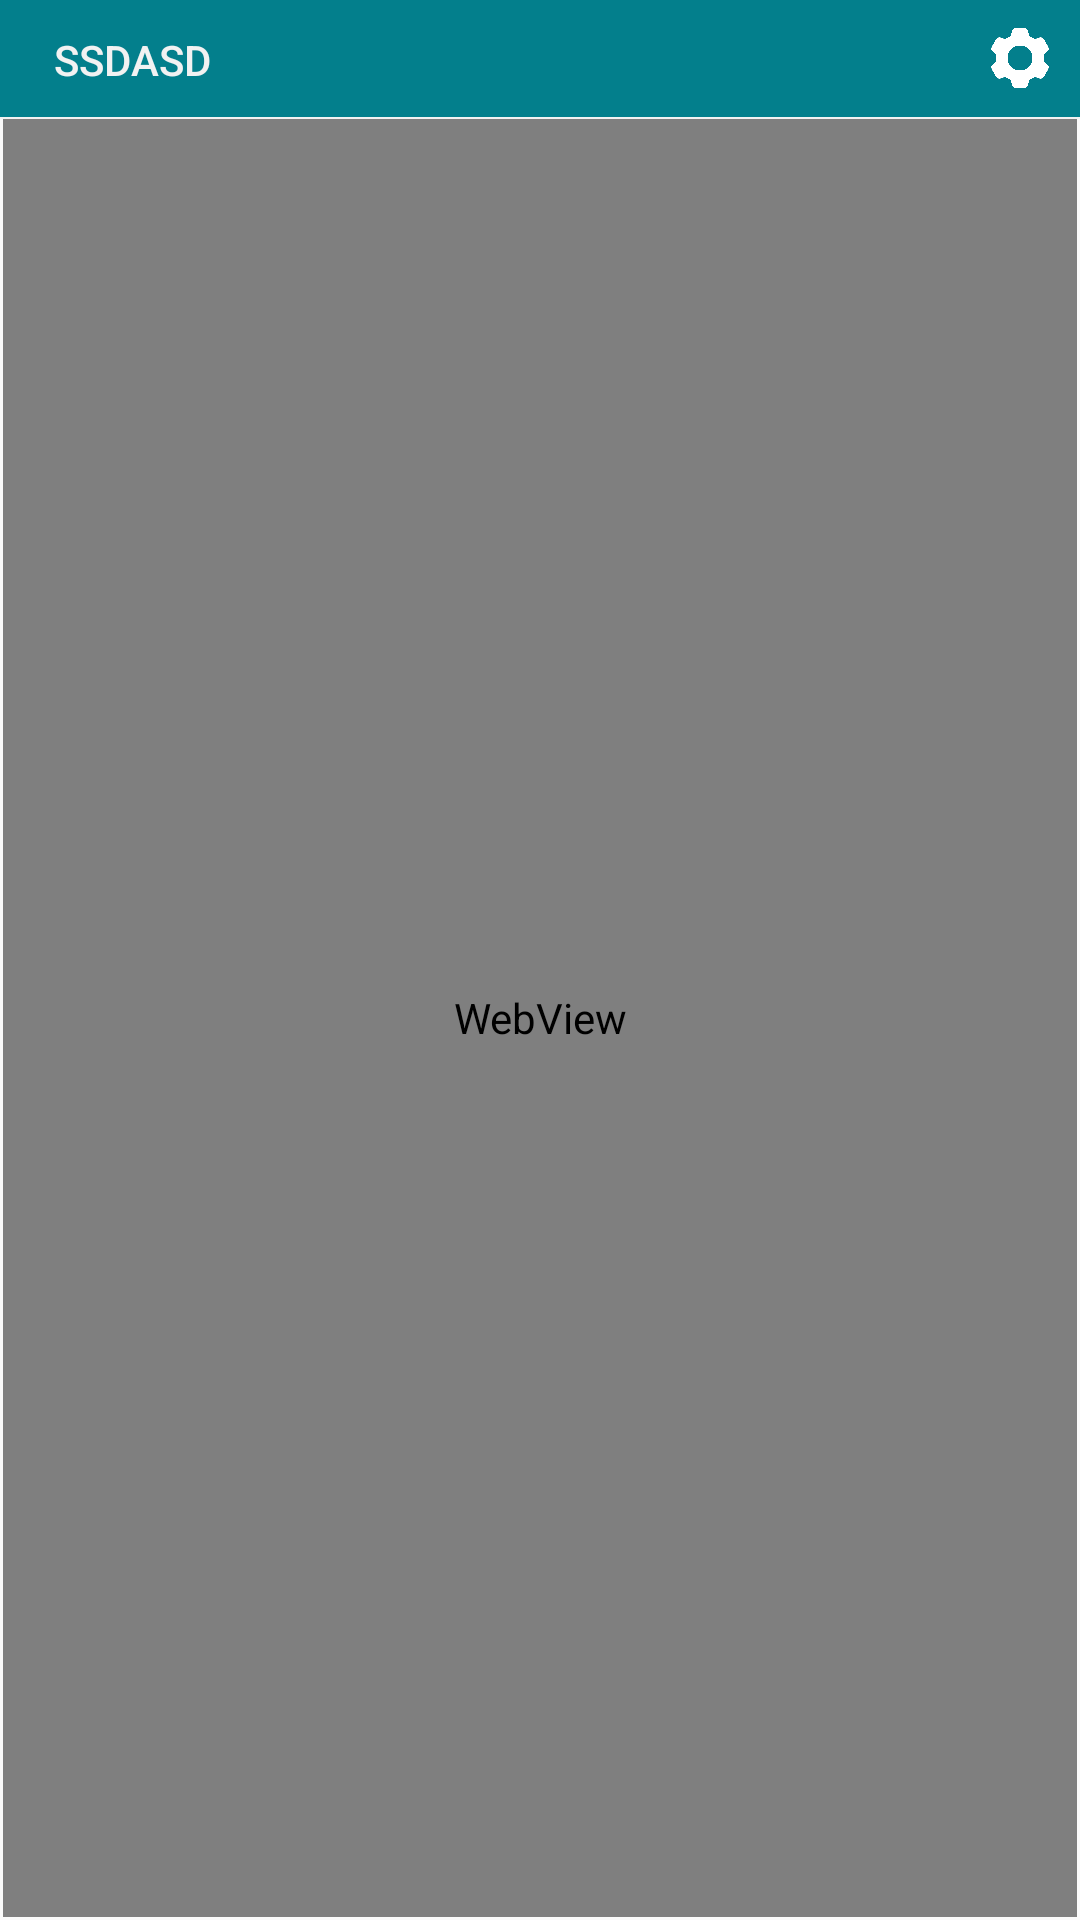

Screen size 1080 × 1920. Icon name, then its center in pixels as point (x, y):
settingbtn: point (1020, 58)
